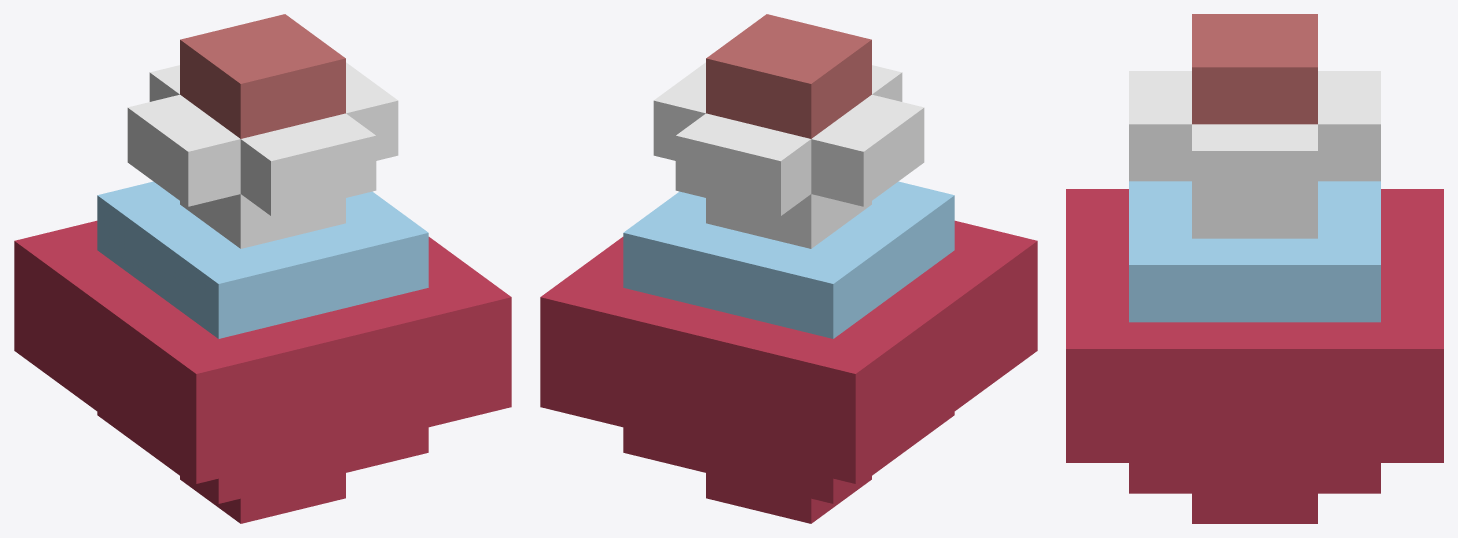
File: health_potion.obj
3 renders of one model, left to right at view 1: azimuth 30°, elevation 25°; view 2: azimuth 150°, elevation 25°; view 3: azimuth 270°, elevation 25°, orthographic. The views are drawn at different scales.
Parts seen in each view (by area): view 1: health_potion; view 2: health_potion; view 3: health_potion.
Boxes of the visible parts, x1,y1,x2,y2 form: health_potion: [14, 14, 511, 523]; health_potion: [540, 14, 1037, 523]; health_potion: [1066, 14, 1443, 523].
Size of the model in its own units: 5.53 by 7.37 by 5.53.
